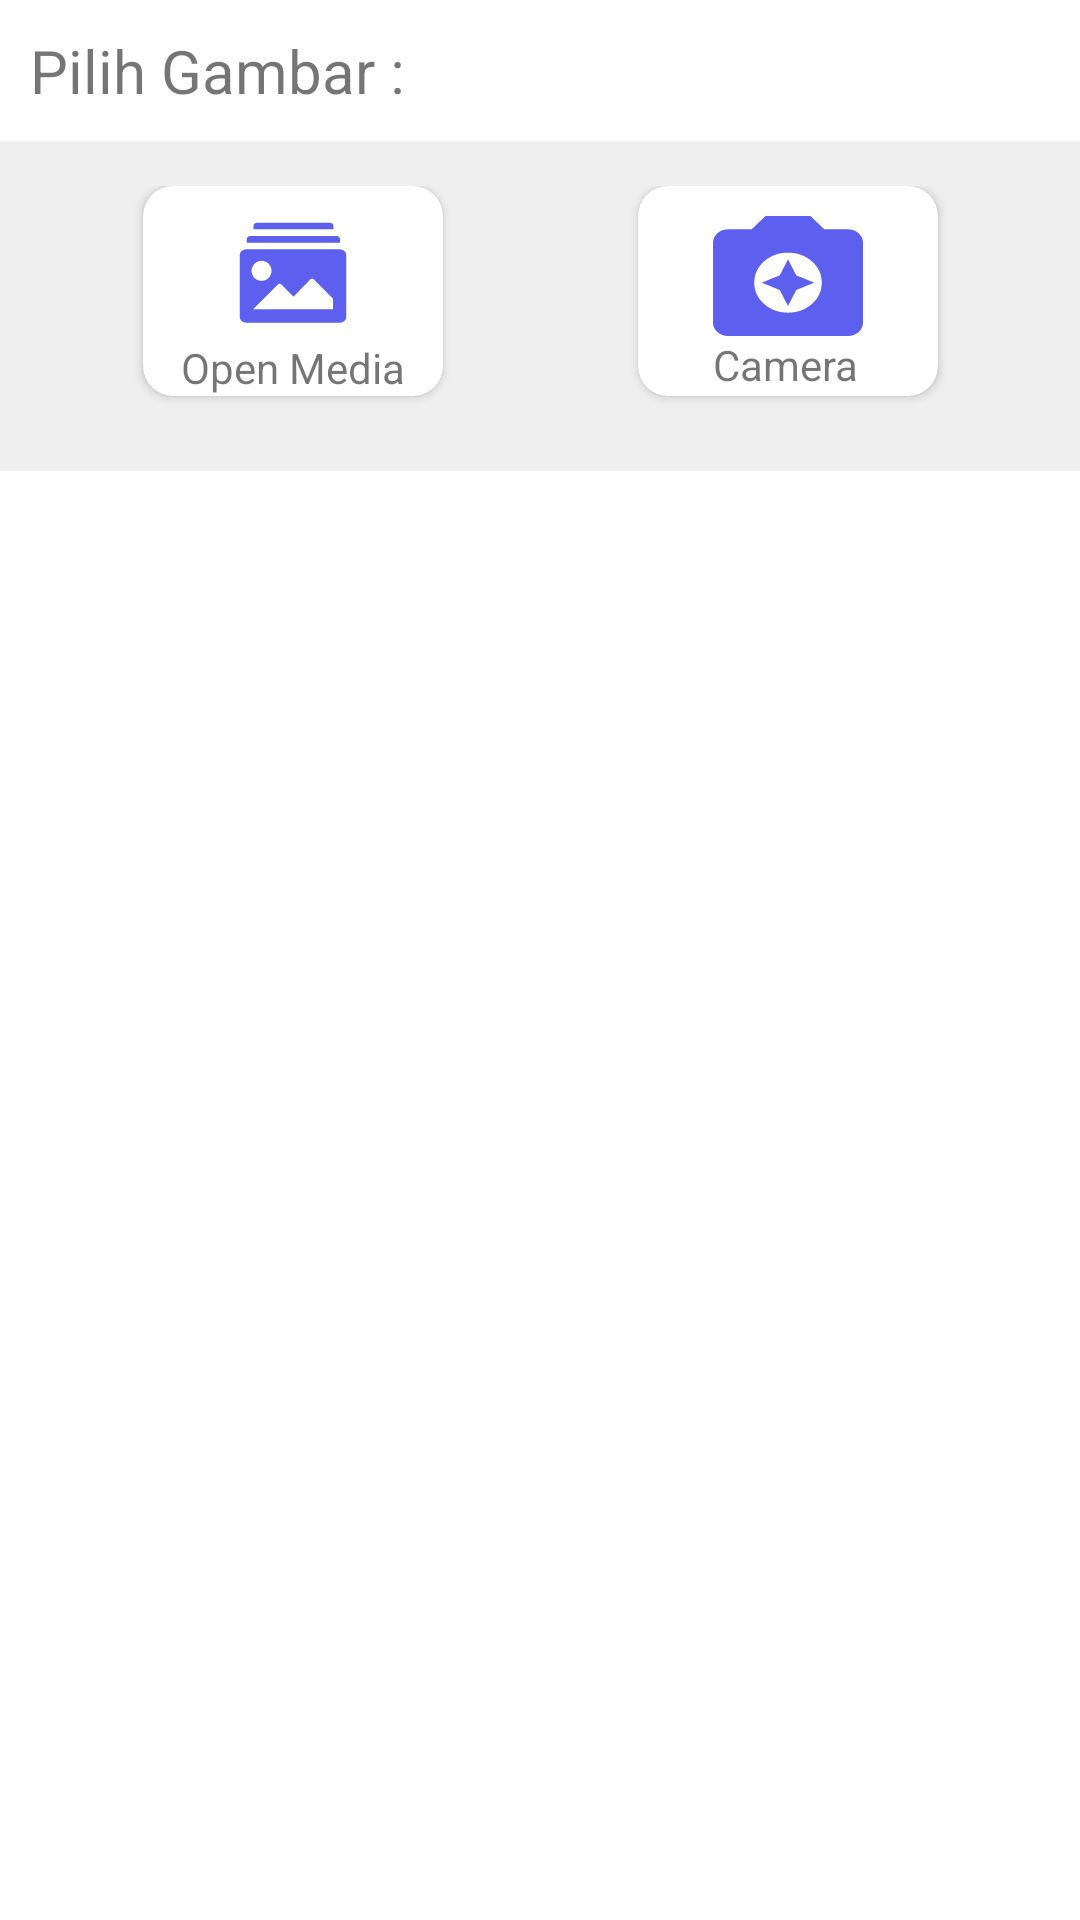

Screen size 1080px x 1920px. Icon name, then its center in pixels as point (x, y):
gallery: point (293, 272)
takephoto: point (788, 276)
